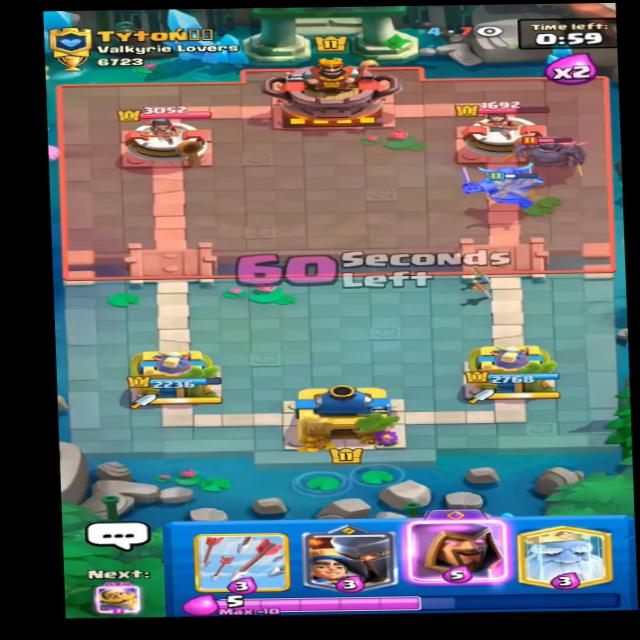pekka: (503, 124, 589, 176)
